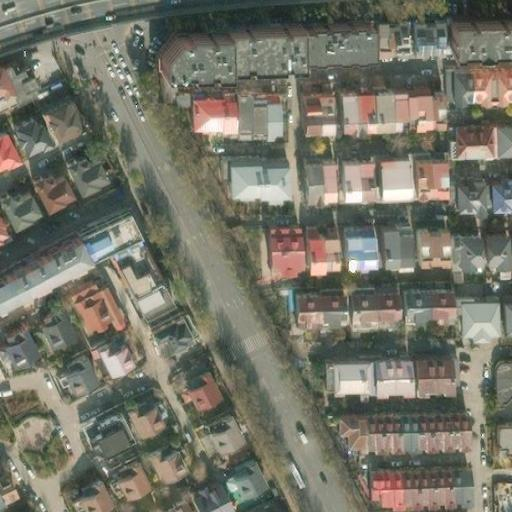building: (152, 25, 223, 86), (63, 277, 120, 339), (221, 23, 293, 67), (292, 20, 363, 64), (436, 4, 512, 45), (75, 217, 137, 266), (109, 241, 159, 299), (81, 414, 128, 462), (35, 99, 80, 147), (7, 113, 51, 161), (181, 86, 228, 129), (223, 163, 280, 197), (32, 175, 74, 221), (67, 158, 107, 203), (130, 285, 172, 326), (34, 310, 73, 354), (175, 372, 216, 413), (143, 440, 181, 483), (221, 459, 260, 500), (199, 413, 237, 455), (0, 56, 35, 101), (185, 478, 231, 512), (449, 64, 488, 103), (64, 478, 108, 512), (363, 359, 407, 393), (122, 400, 159, 440), (401, 7, 438, 47), (108, 460, 144, 501), (319, 360, 363, 393), (294, 87, 327, 128), (405, 152, 441, 189), (455, 290, 491, 326), (407, 359, 446, 392), (447, 119, 487, 151), (151, 324, 186, 359), (261, 228, 295, 263), (373, 153, 406, 189), (363, 470, 396, 506), (486, 360, 512, 405), (60, 362, 95, 395), (411, 226, 443, 260), (300, 228, 332, 262), (28, 80, 63, 111), (0, 462, 23, 505), (486, 63, 512, 101), (437, 414, 465, 449), (378, 226, 406, 260), (477, 228, 504, 263), (339, 227, 366, 261), (333, 416, 359, 451), (396, 285, 426, 315), (450, 229, 476, 263), (413, 414, 438, 449), (485, 118, 512, 150), (329, 154, 353, 190), (100, 349, 129, 378), (334, 294, 361, 325), (302, 295, 329, 326), (399, 85, 419, 126), (277, 295, 303, 326), (365, 86, 385, 126), (373, 415, 395, 450), (330, 87, 349, 127), (352, 154, 373, 190), (483, 177, 512, 203), (448, 178, 477, 204), (488, 419, 512, 450), (447, 470, 467, 507), (395, 470, 415, 507), (425, 284, 448, 315), (429, 470, 448, 507), (348, 86, 365, 127), (257, 86, 274, 127), (360, 293, 382, 324), (227, 86, 243, 128), (242, 86, 258, 128), (395, 415, 414, 450), (295, 155, 313, 191), (312, 155, 330, 191), (418, 85, 434, 125), (385, 86, 400, 126), (150, 496, 186, 512), (496, 289, 512, 324), (358, 416, 374, 451), (414, 470, 429, 507), (489, 494, 512, 512), (505, 228, 512, 262)
